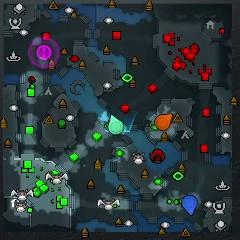Other: (37, 45, 52, 60)
p1: (182, 195, 198, 215)
p2: (108, 115, 123, 134)
p5: (155, 113, 172, 130)
